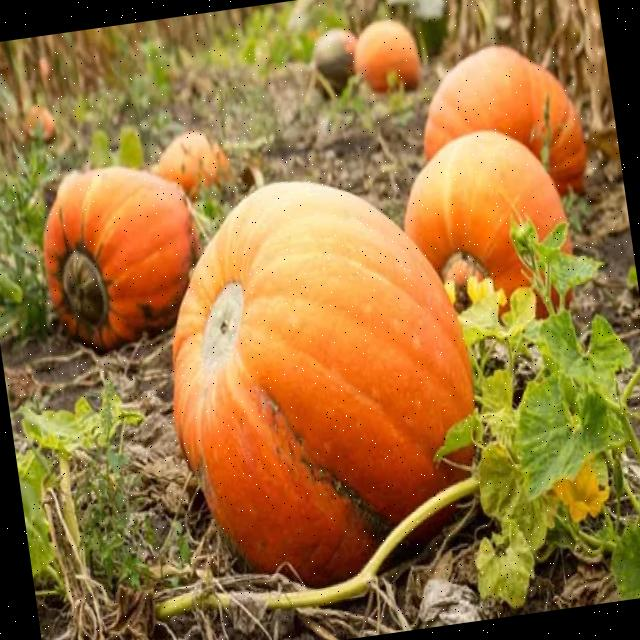pumpkin: (174, 182, 472, 586), (404, 131, 566, 309), (44, 166, 200, 350), (424, 48, 586, 194), (158, 131, 230, 197), (356, 21, 421, 92), (314, 29, 356, 92)
